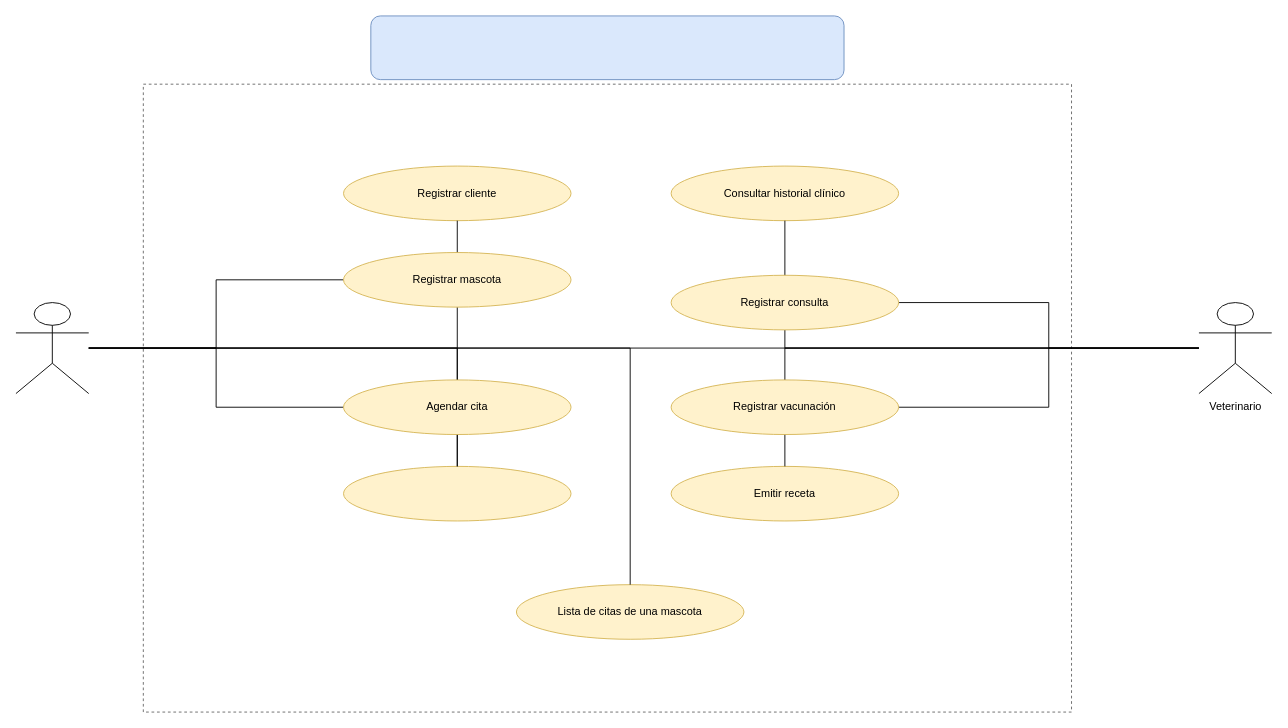
Image size: 1288x728. Some labels were removed from this diagram. The box of each missing label's shape, as (x1, y1, x2, y2) in pixels:
Buscar mascota: (343, 465, 571, 521)
Caso de uso Veterinaria: (370, 15, 844, 80)
Recepcionista: (15, 302, 89, 394)
